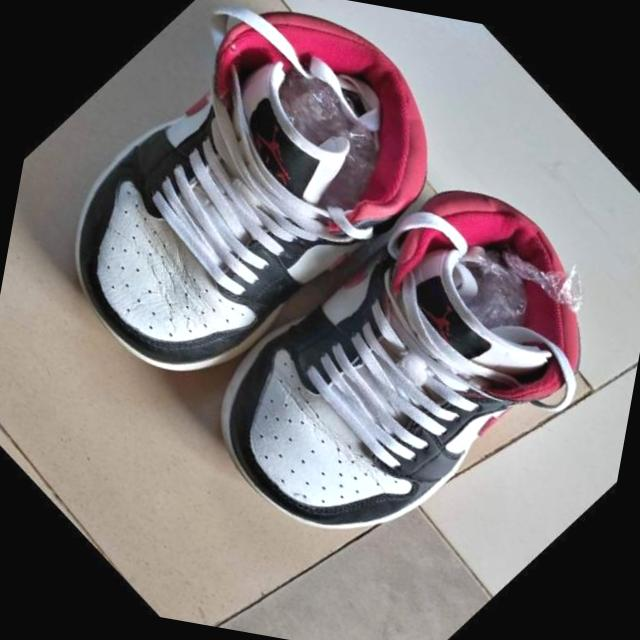nike_fake_jordan: (153, 106, 640, 637), (0, 0, 506, 467)
